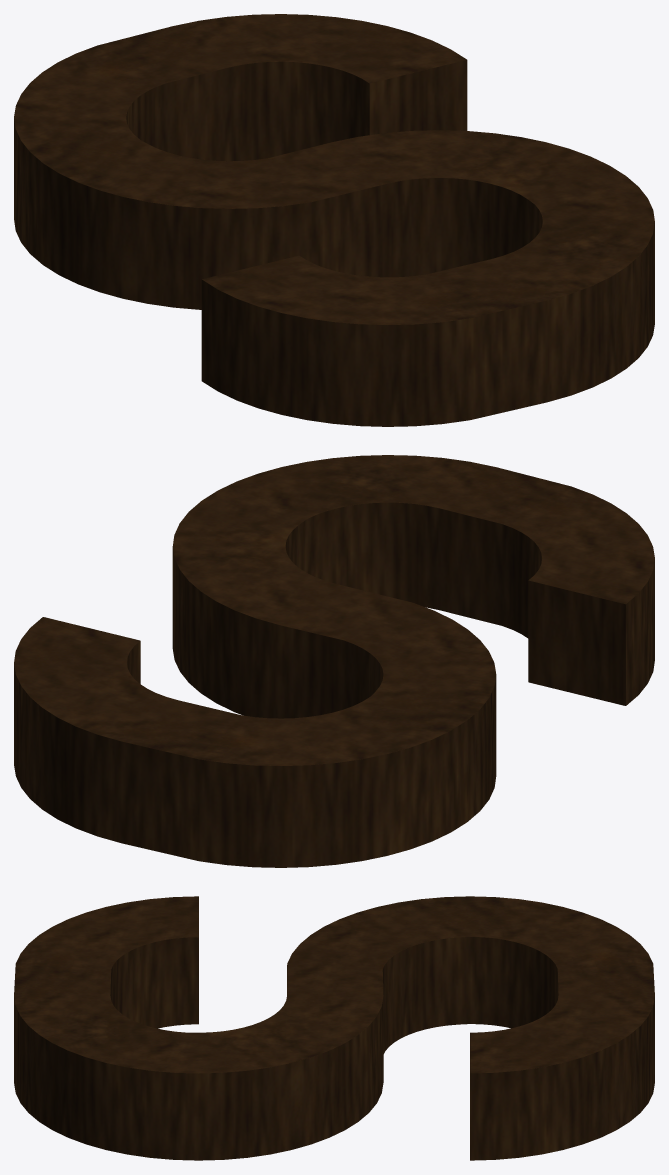
Rendered from LetterS.obj.
3 renders of one model, top to bottom at view 1: azimuth 30°, elevation 25°; view 2: azimuth 150°, elevation 25°; view 3: azimuth 270°, elevation 25°, orthographic. The views are drawn at different scales.
Visible parts, largest first — view 1: LetterS; view 2: LetterS; view 3: LetterS.
Boxes of the visible parts, x1,y1,x2,y2 form: LetterS: (14, 14, 654, 426); LetterS: (14, 455, 654, 867); LetterS: (14, 896, 654, 1160).
Bounding box in the file's own units: 0.6538 × 0.15 × 1.
